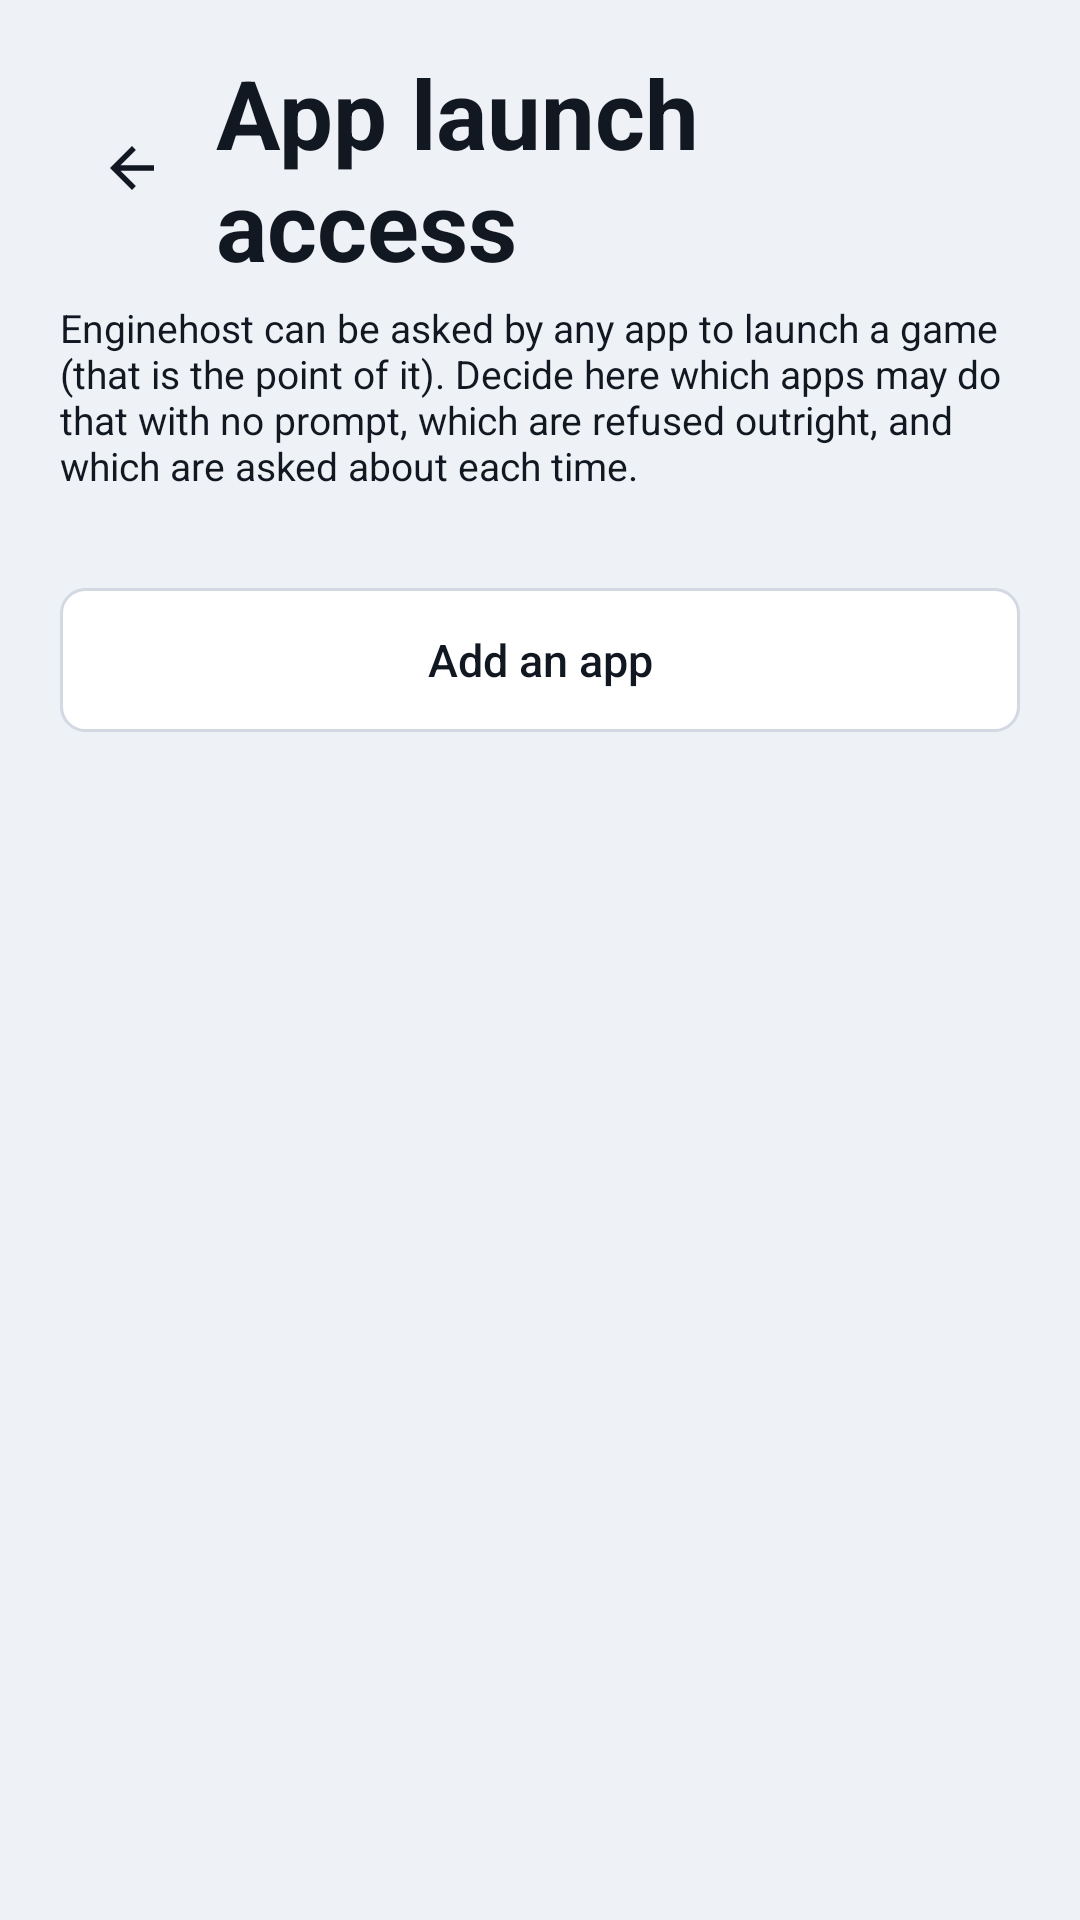

Icons on this 1080w x 1920h Android screen, each with its box as (x1, y1, x2, y2):
Back: (110, 146, 154, 190)
